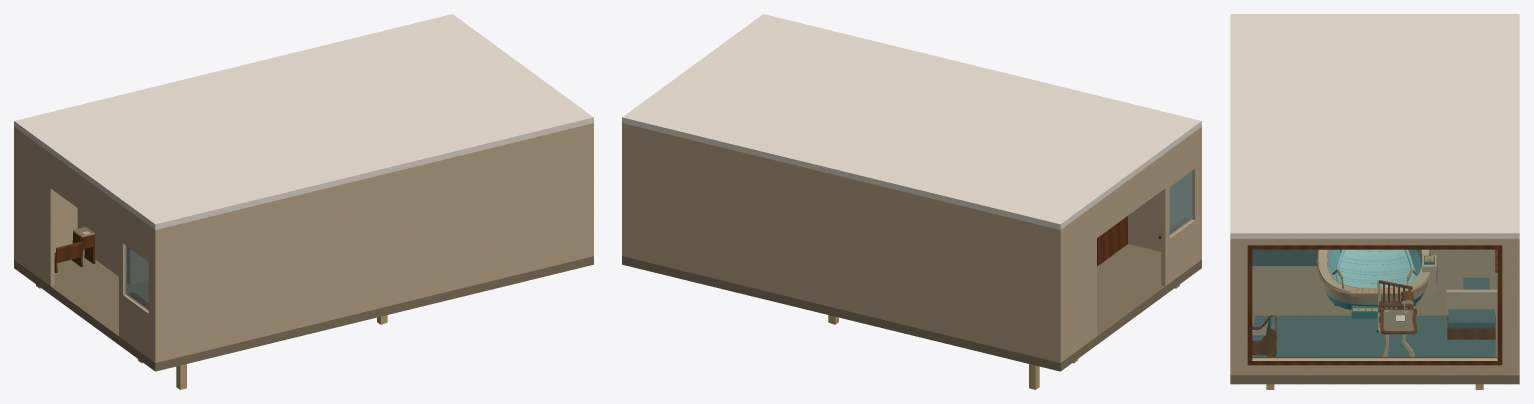
File: NG500_WarmInterior_r001.glb
3 views of the same model, side by side, from view 1: azimuth 30°, elevation 25°; view 2: azimuth 150°, elevation 25°; view 3: azimuth 270°, elevation 25° (orthographic). The views are drawn at different scales.
Visible parts, largest first — view 1: NG500_RuntimeBatch_001, NG500_RoomFloor, NG500_ScreenedStreetGlass, NG500_RuntimeBatch_013; view 2: NG500_RuntimeBatch_001, NG500_RoomFloor, NG500_ScreenedStreetGlass, NG500_RuntimeBatch_002; view 3: NG500_RuntimeBatch_001, NGP_500_PrivateViewPane, NG500_RoomFloor, NGW_500_OutlookFloorInlay, NG500_ReservedRestSupport_01__WaterSurface_VisualOnly, NG500_ReservedRestSupport_01__Contoured broad immersed rest , NG500_ReservedRestSupport_01__Hollow continuous basin shell , NGP_500_Frame_Sill, NG500_RuntimeBatch_006, NGP_500_Frame_Head, NGP_500_ViewSeat_Back, NGP_500_ViewSeat_Cushion (+9 smaller).
Part boxes in pixels (bbox=[...]): NG500_RuntimeBatch_001: bbox=[14, 14, 593, 362]; NG500_RoomFloor: bbox=[14, 250, 593, 371]; NG500_ScreenedStreetGlass: bbox=[125, 245, 148, 310]; NG500_RuntimeBatch_013: bbox=[54, 231, 95, 271]; NG500_RuntimeBatch_001: bbox=[622, 14, 1201, 362]; NG500_RoomFloor: bbox=[622, 244, 1201, 371]; NG500_ScreenedStreetGlass: bbox=[1169, 171, 1192, 235]; NG500_RuntimeBatch_002: bbox=[1097, 216, 1190, 265]; NG500_RuntimeBatch_001: bbox=[1230, 14, 1519, 375]; NGP_500_PrivateViewPane: bbox=[1252, 250, 1497, 358]; NG500_RoomFloor: bbox=[1230, 250, 1519, 384]; NGW_500_OutlookFloorInlay: bbox=[1254, 315, 1495, 356]; NG500_ReservedRestSupport_01__WaterSurface_VisualOnly: bbox=[1329, 250, 1420, 287]; NG500_ReservedRestSupport_01__Contoured broad immersed rest : bbox=[1335, 249, 1414, 287]; NG500_ReservedRestSupport_01__Hollow continuous basin shell : bbox=[1318, 249, 1429, 309]; NGP_500_Frame_Sill: bbox=[1247, 357, 1502, 365]; NG500_RuntimeBatch_006: bbox=[1252, 249, 1489, 289]; NGP_500_Frame_Head: bbox=[1247, 245, 1502, 249]; NGP_500_ViewSeat_Back: bbox=[1446, 289, 1496, 315]; NGP_500_ViewSeat_Cushion: bbox=[1448, 309, 1494, 328].
Size of the model in its own units: 12.9 by 5.31 by 7.2.
Materials: 40 (20 with a texture image).
